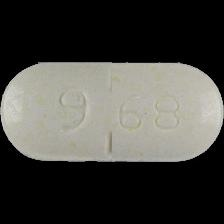66267-022: (0, 0, 224, 224)
